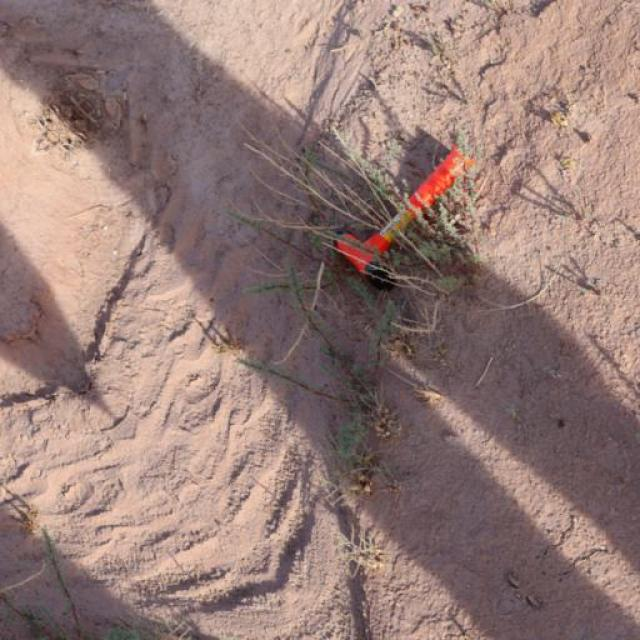mallet: (332, 143, 477, 285)
